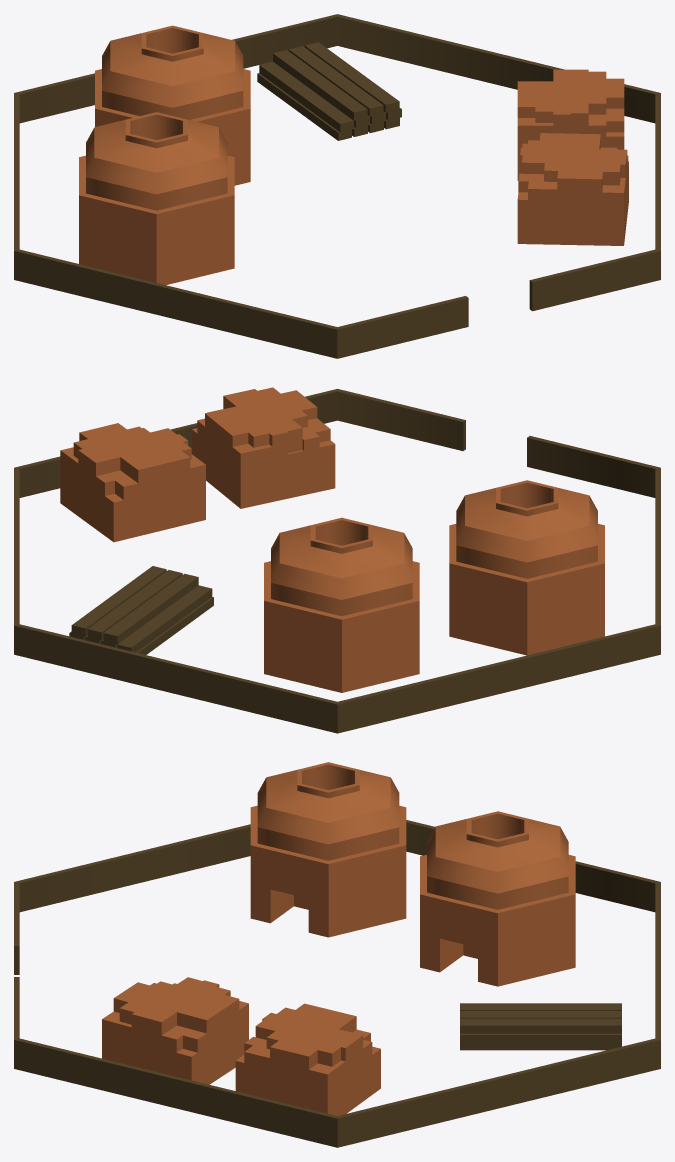
The model's file is MJ_Building_BrickKiln.fbx.
3 views of the same model, one above another, from view 1: azimuth 30°, elevation 25°; view 2: azimuth 150°, elevation 25°; view 3: azimuth 270°, elevation 25° (orthographic).
Visible parts, largest first — view 1: Model, Group2, Group3, Group1; view 2: Model, Group2, Group3, Group1; view 3: Model, Group2, Group3, Group1.
Part boxes in pixels (x1,y1,x2,y2): Model: [14, 14, 660, 358]; Group2: [273, 42, 399, 120]; Group3: [259, 61, 401, 132]; Group1: [257, 73, 399, 140]; Model: [14, 387, 660, 733]; Group2: [71, 566, 198, 644]; Group3: [69, 585, 212, 652]; Group1: [136, 597, 213, 654]; Model: [14, 762, 660, 1147]; Group2: [460, 1003, 621, 1033]; Group3: [460, 1033, 621, 1042]; Group1: [460, 1043, 621, 1050].
Bounding box in the file's own units: 5.82 × 1.05 × 5.04.
